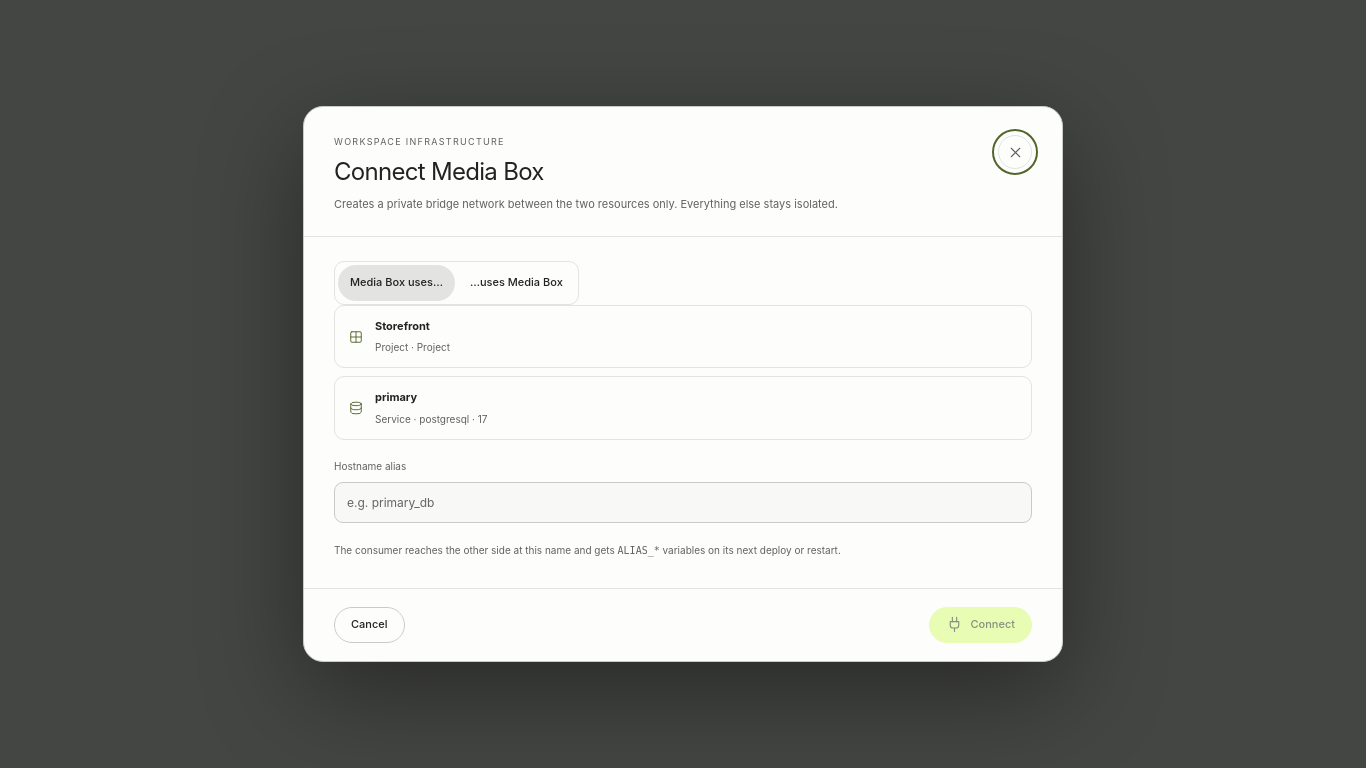
Scenario: connections › connects an app to a project with a derived alias
The width and height of the screenshot is (1366, 768).
Later steps or results of the test are not shown.
Click the button "Storefront Project · Project". click: (402, 326)
box: [334,305,1032,368]
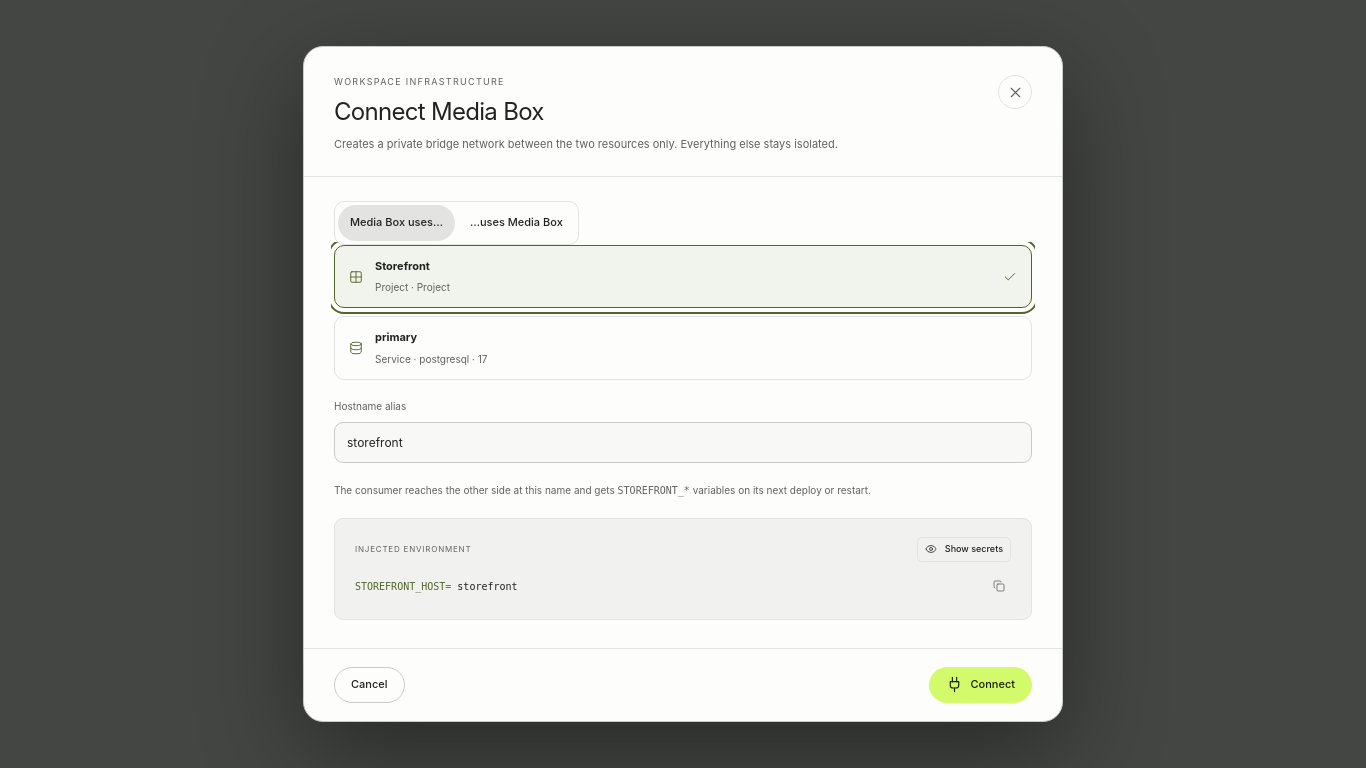
Expected: the field labelled "Hostname alias" holds "storefront", [334,422,1032,463]
Expected: the text "STOREFRONT_HOST" is shown, [355,578,451,595]
